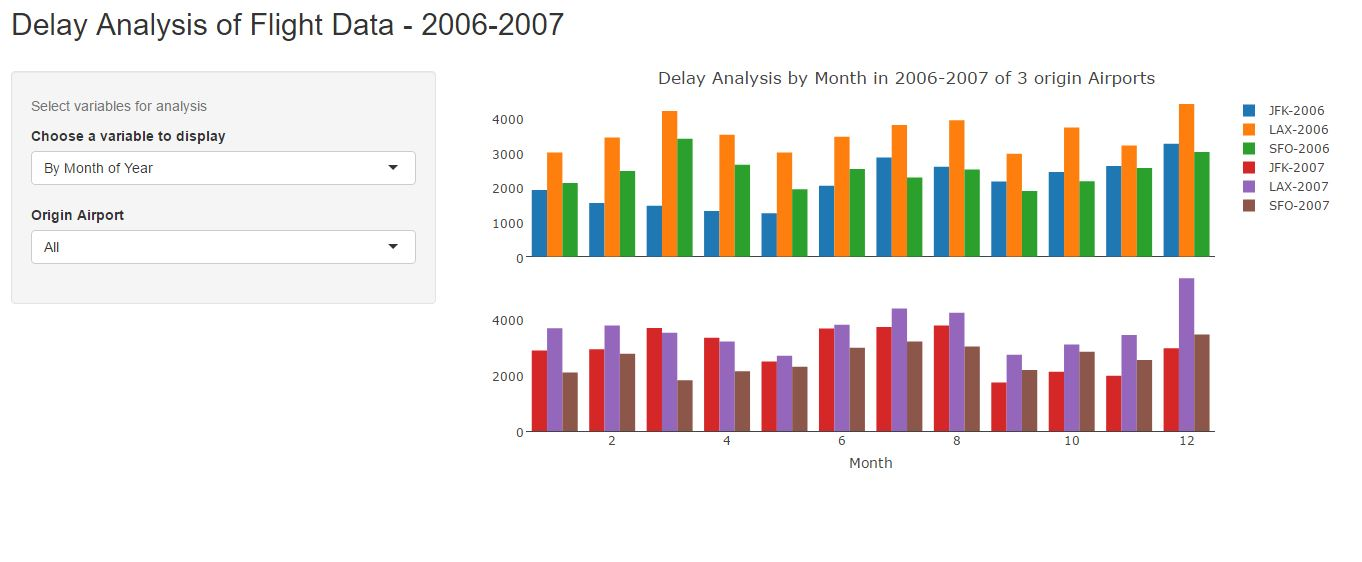

The page's visual inventory and layout, read from the dashboard file:
{"tool":"tableau","page":{"name":"Dashboard 1","canvas":[1024,768],"ordinal":0},"visuals":[{"type":"title","box":[0,0,1024,41]},{"type":"worksheet","title":"Sheet 2","mark":"Square","rows":["airport_name"],"box":[0,41,256,334.2]},{"type":"worksheet","title":"Sheet 4","mark":"Automatic","rows":["no_of_recos"],"cols":["airport_name"],"box":[256,41,189,334.2]},{"type":"worksheet","title":"Sheet 3","mark":"Bar","rows":["queuing_rating"],"cols":["airport_name"],"box":[445,41,579,334.2]},{"type":"worksheet","title":"Sheet 1","mark":"Automatic","rows":["airport_name"],"cols":["averagerating"],"box":[0,375.2,256,392.8]},{"type":"worksheet","title":"Sheet 5","mark":"Automatic","rows":["airport_shopping_rating"],"cols":["airport_name"],"box":[256,375.2,768,392.8]}]}

Visuals, with their boxes on the page's 1024x768 design canvas (x1, y1, x2, y2). These are canvas units, not pixel positions in the 1362x562 screenshot, which may show the page scaled, cropped or inside an application window:
title: 0:0:1024:41
"Sheet 2" worksheet (Square marks): 0:41:256:375
"Sheet 4" worksheet: 256:41:445:375
"Sheet 3" worksheet (Bar marks): 445:41:1024:375
"Sheet 1" worksheet: 0:375:256:768
"Sheet 5" worksheet: 256:375:1024:768
